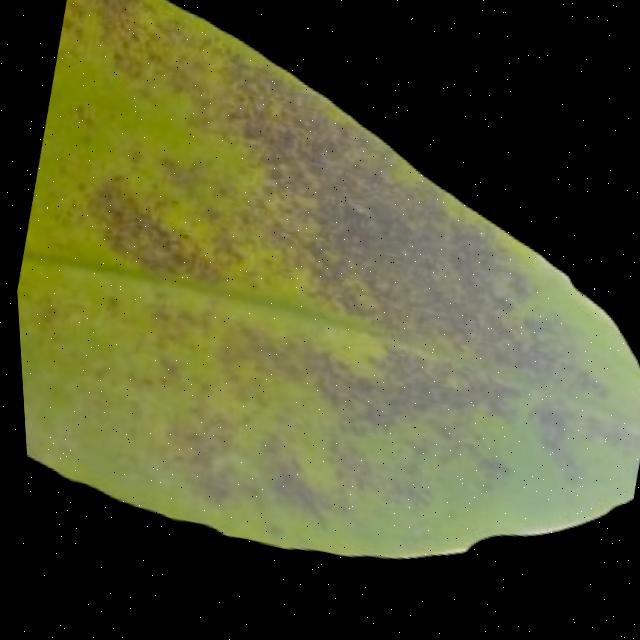mite: (97, 196, 191, 273), (521, 399, 572, 457), (70, 99, 100, 128), (98, 291, 124, 317), (73, 178, 88, 194)
spots: (13, 0, 640, 618)
